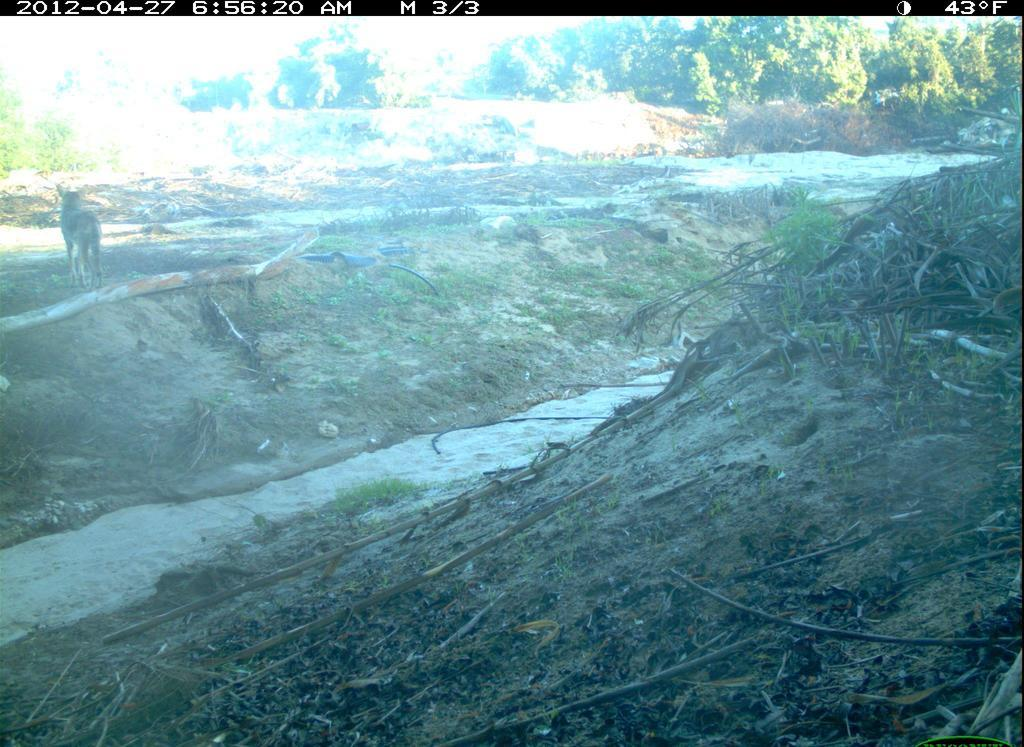coyote: (38, 176, 117, 296)
